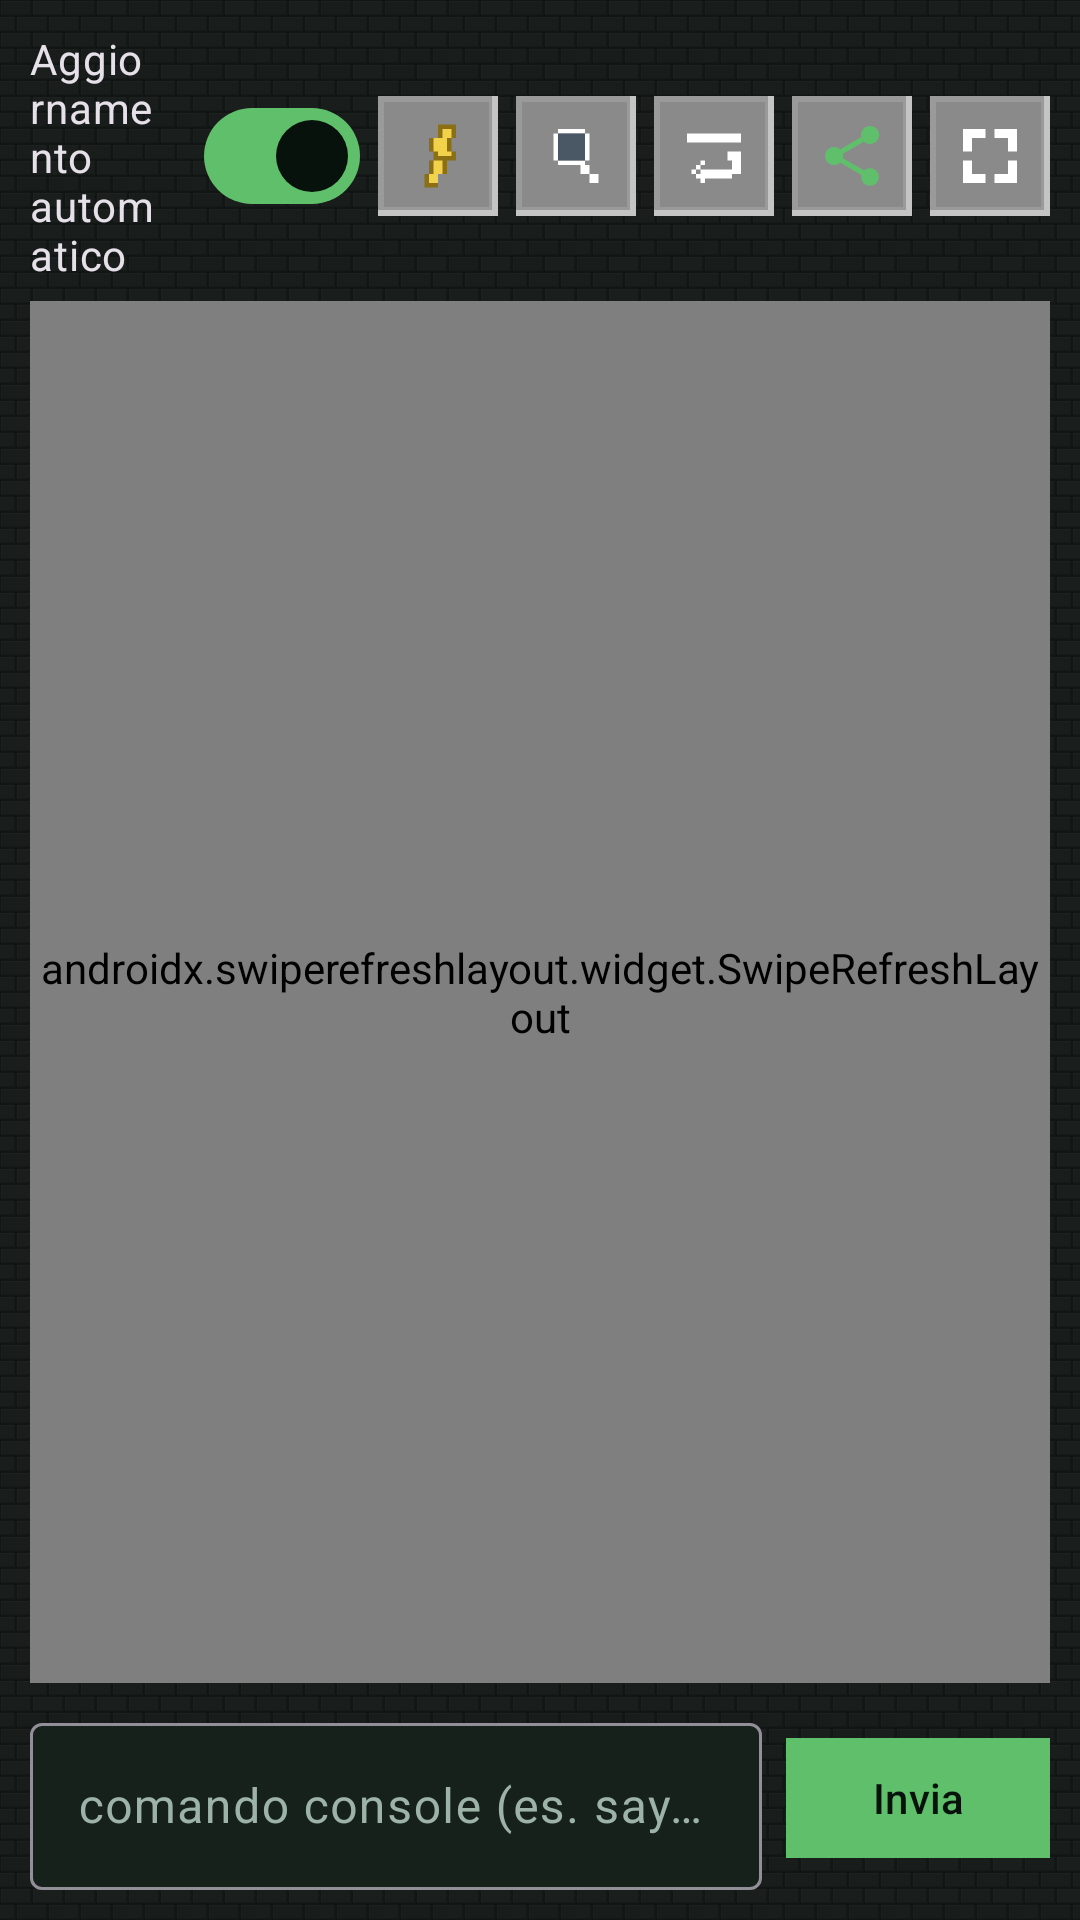

Icons on this 1080 × 1920 Android screen, each with the point to tap as (x=x, y=y):
Cerca nel log: (x=576, y=156)
Cosa fare col registro: (x=852, y=156)
macro: (x=438, y=156)
Manda a capo le righe lunghe: (x=714, y=156)
Mostra solo il log, a tutto schermo: (x=990, y=156)
